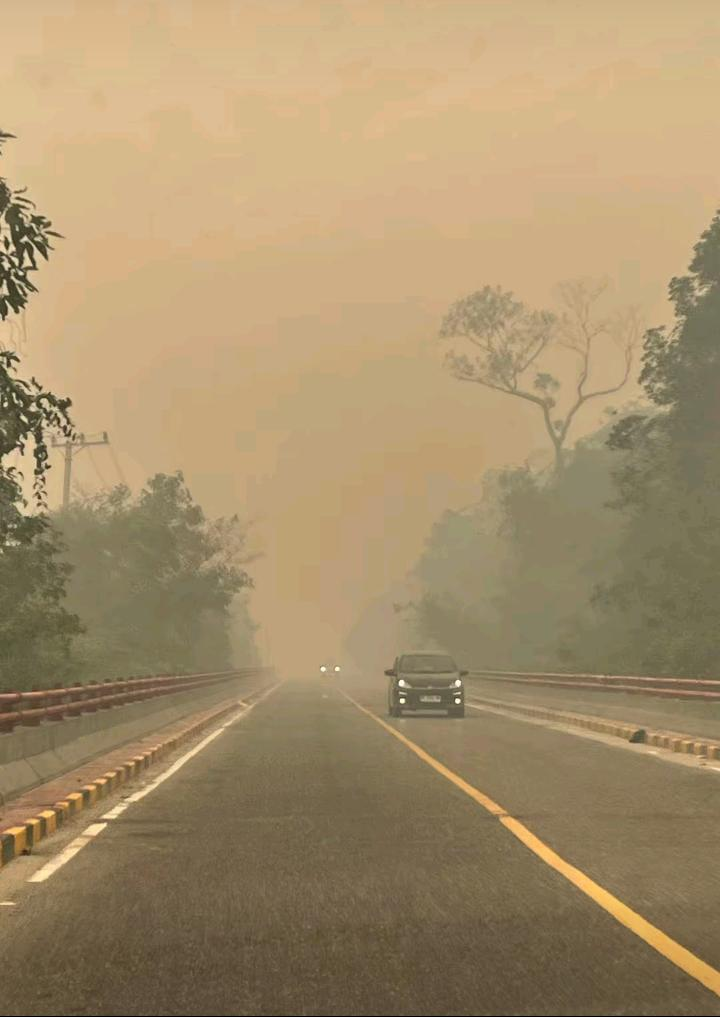Deteksi-Objek-Citra-Berasap: (0, 0, 720, 683)
Kendaraan: (383, 652, 470, 718), (317, 662, 342, 680)
Vegetasi: (0, 467, 263, 692), (601, 207, 720, 677), (430, 278, 645, 483), (0, 128, 82, 513)
